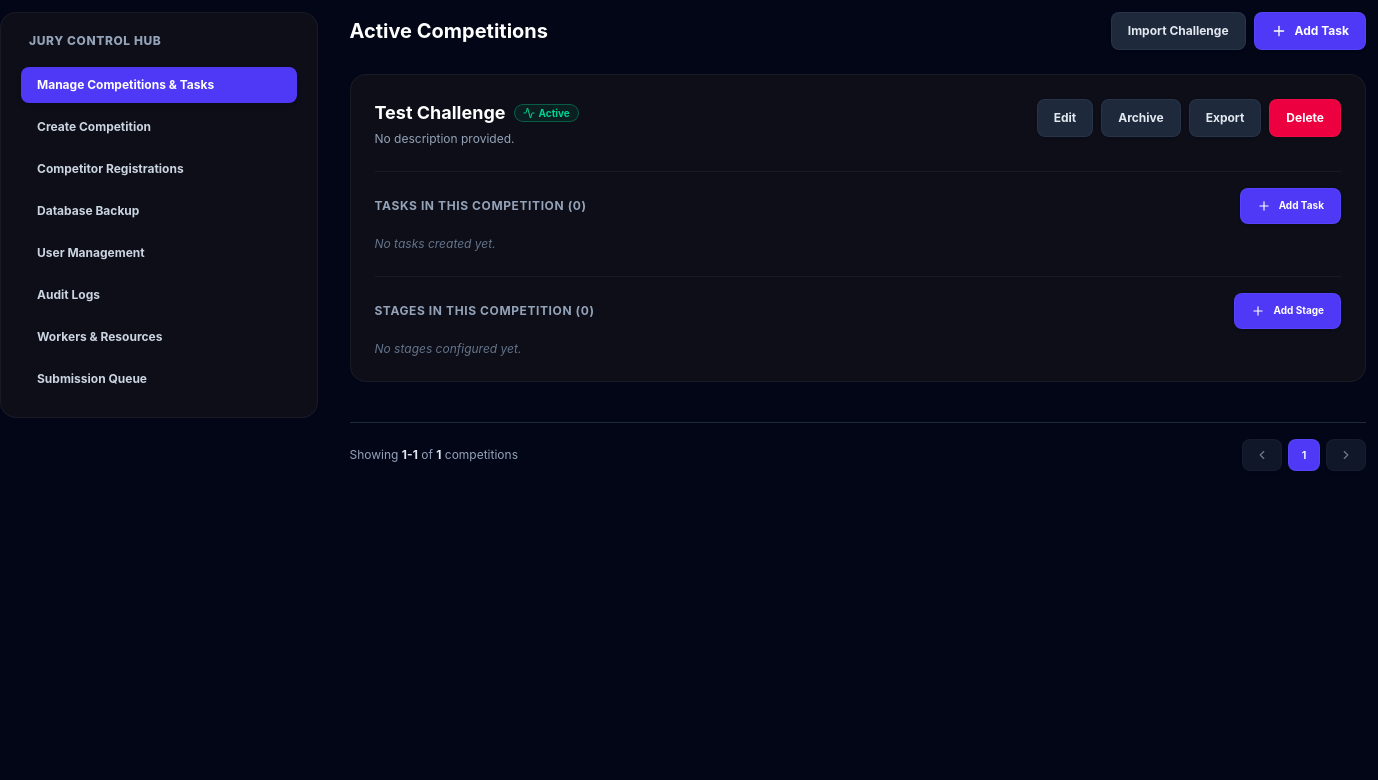
Scenario: AdminPanel – tab navigation & sub-module rendering › switches to Challenge Configuration tab and renders ChallengeConfig
Click the button "Create Competition".
click(94, 126)  # box [21, 109, 296, 145]
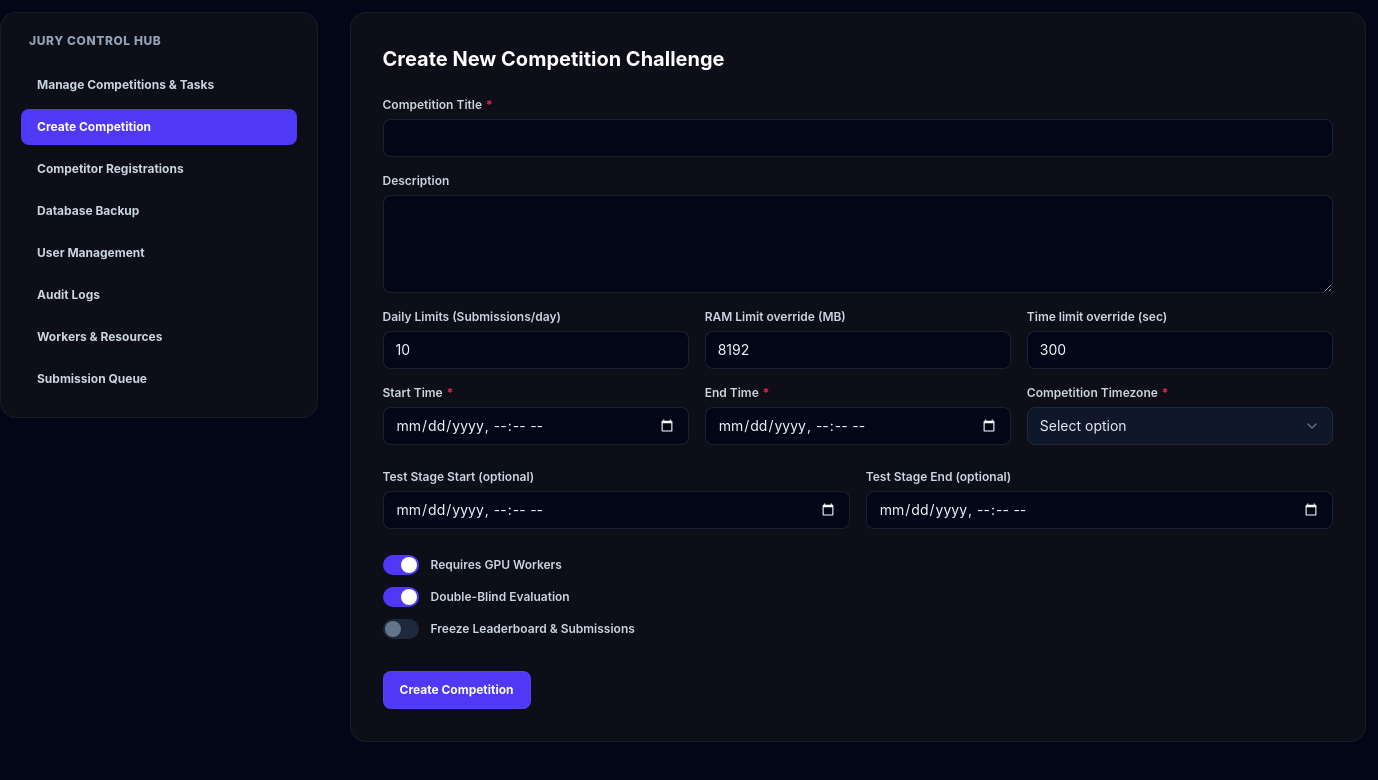
Check: the heading "Create New Competition Challenge" is shown, box [382, 47, 724, 71]
